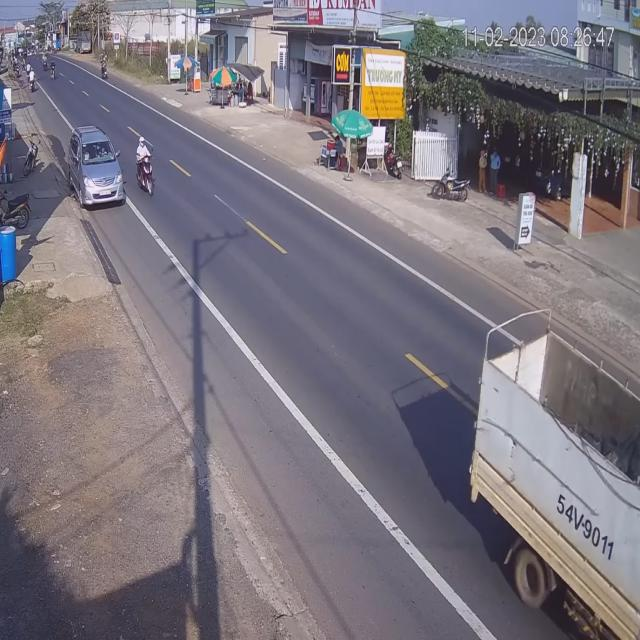car: (66, 128, 125, 210)
motorbike: (136, 135, 156, 199)
truck: (472, 298, 638, 640)
